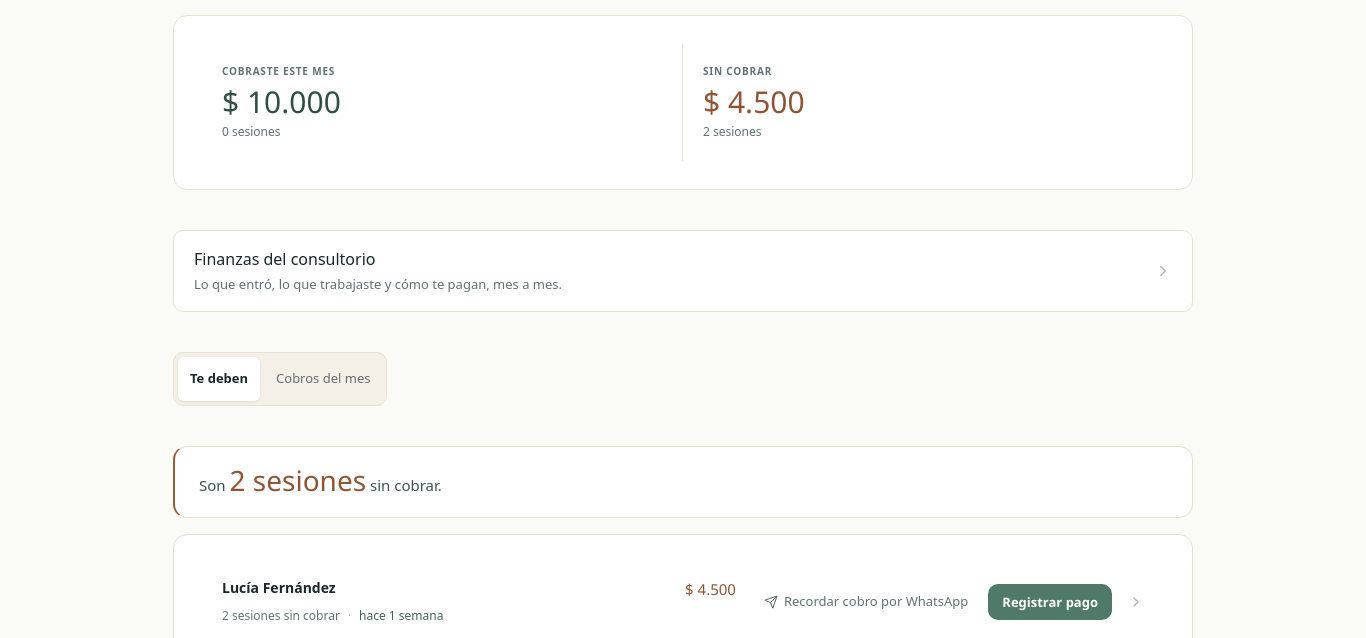
Test: Te deben: registrar pago › si la recarga que sigue al cobro falla, lo dice y deja la lista que había
(page scrolled)
Click the button "Registrar pago".
click(1050, 602)  # box 988,584 -> 1112,620
(page scrolled)
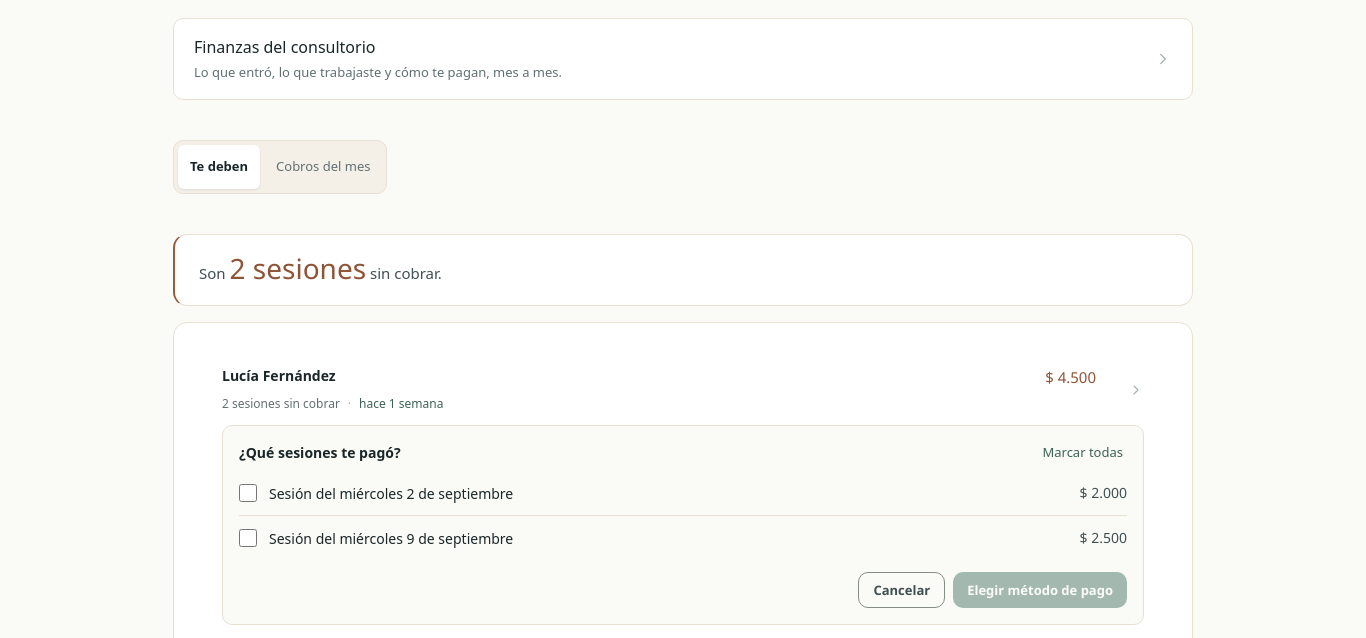
Click the checkbox labelled "Sesión del miércoles 2 de septiembre $ 2.000".
click(248, 493)  # box 239,484 -> 257,502
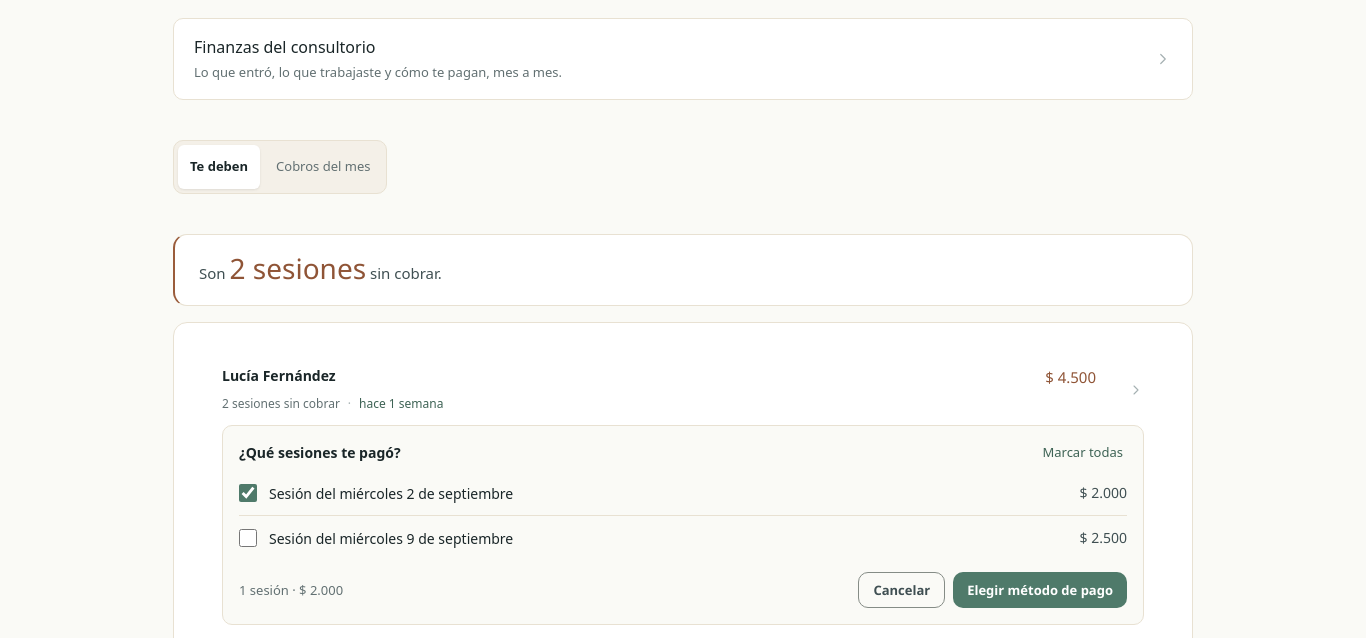
Click the button "Elegir método de pago".
click(1040, 590)  # box 953,572 -> 1127,608
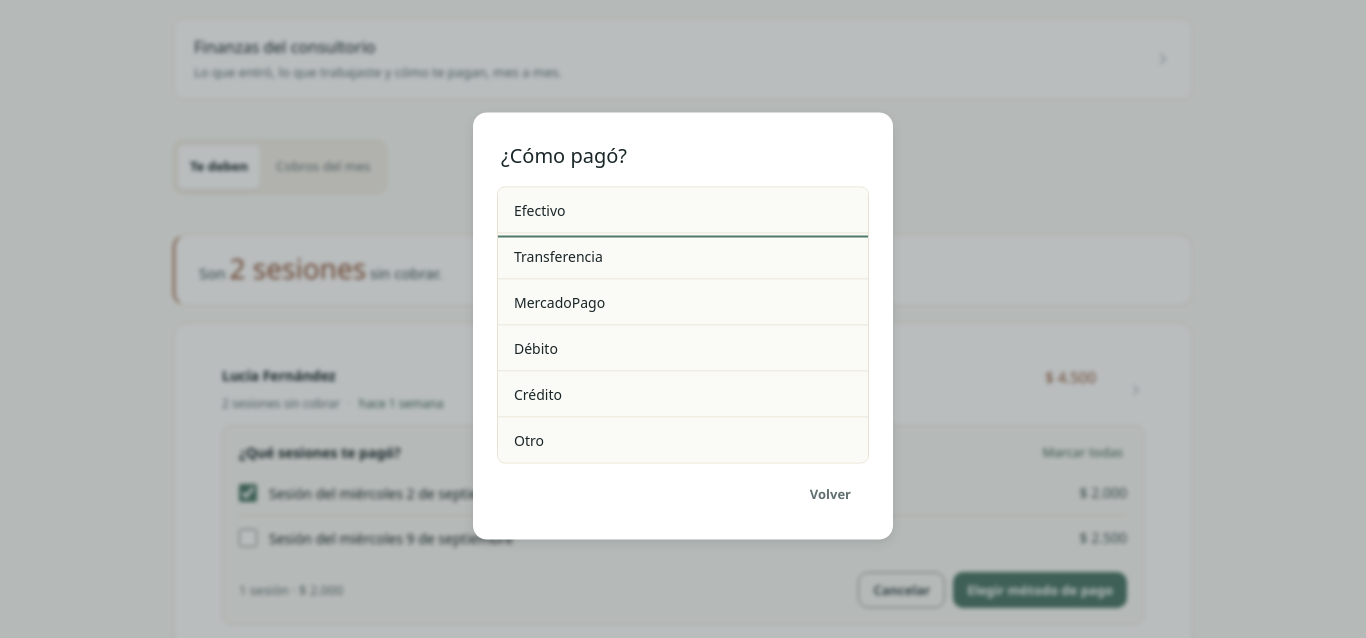
Click the button "Efectivo".
click(540, 210)  # box 498,188 -> 868,234
(page scrolled)
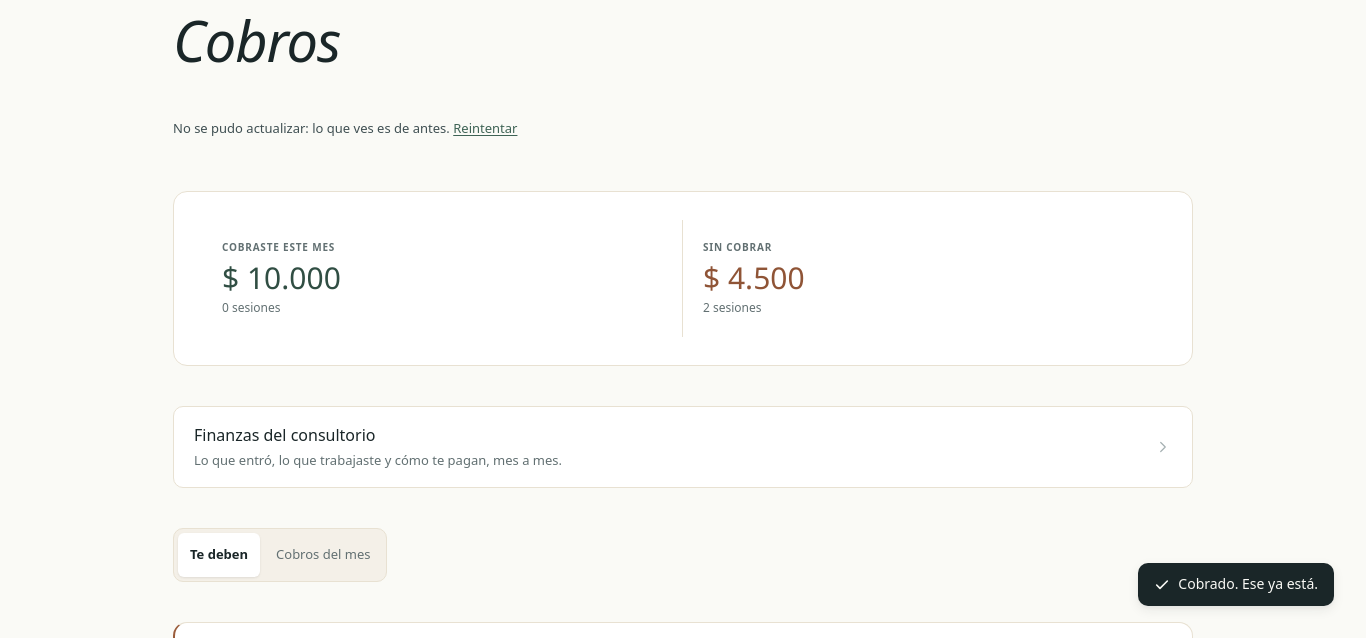
Check: the text "Cobrado. Ese ya está." is shown, box 1178,575 -> 1318,594
Check: the message "No se pudo actualizar: lo que ves es de antes. Reintentar" is shown, box 173,107 -> 518,151
Click the button "Reintentar".
click(485, 129)  # box 453,107 -> 517,151
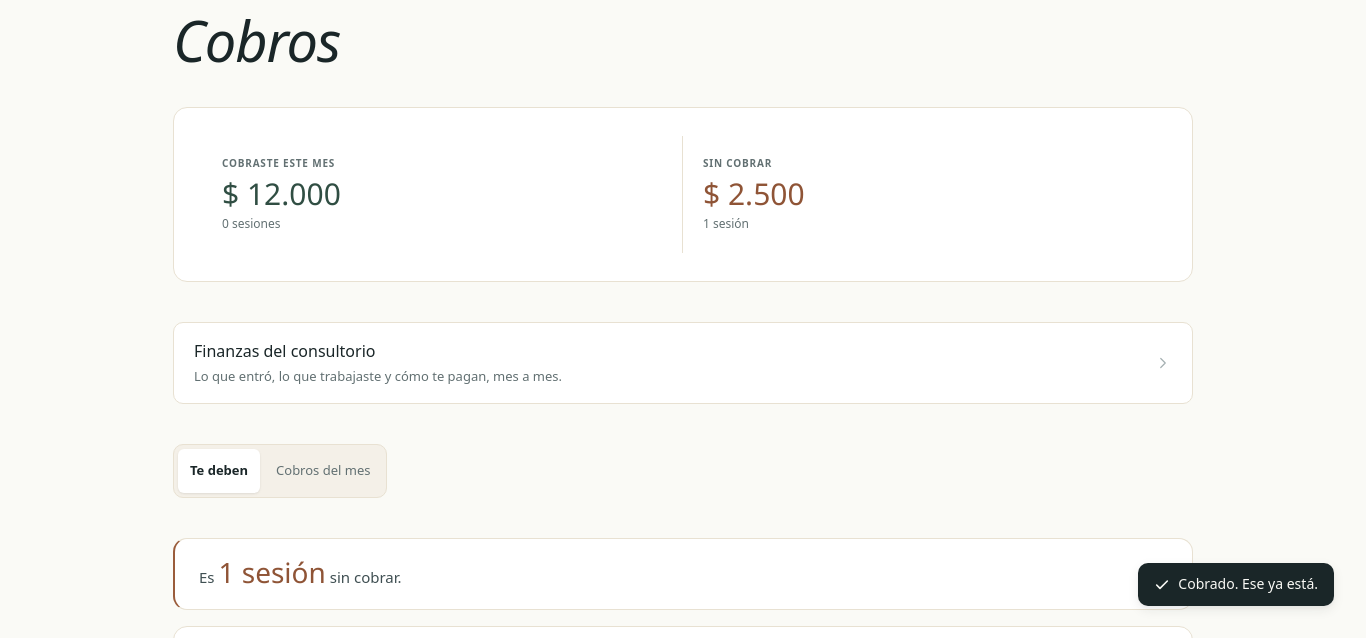
Check: the text "No se pudo actualizar: lo que ves es de antes." is gone
